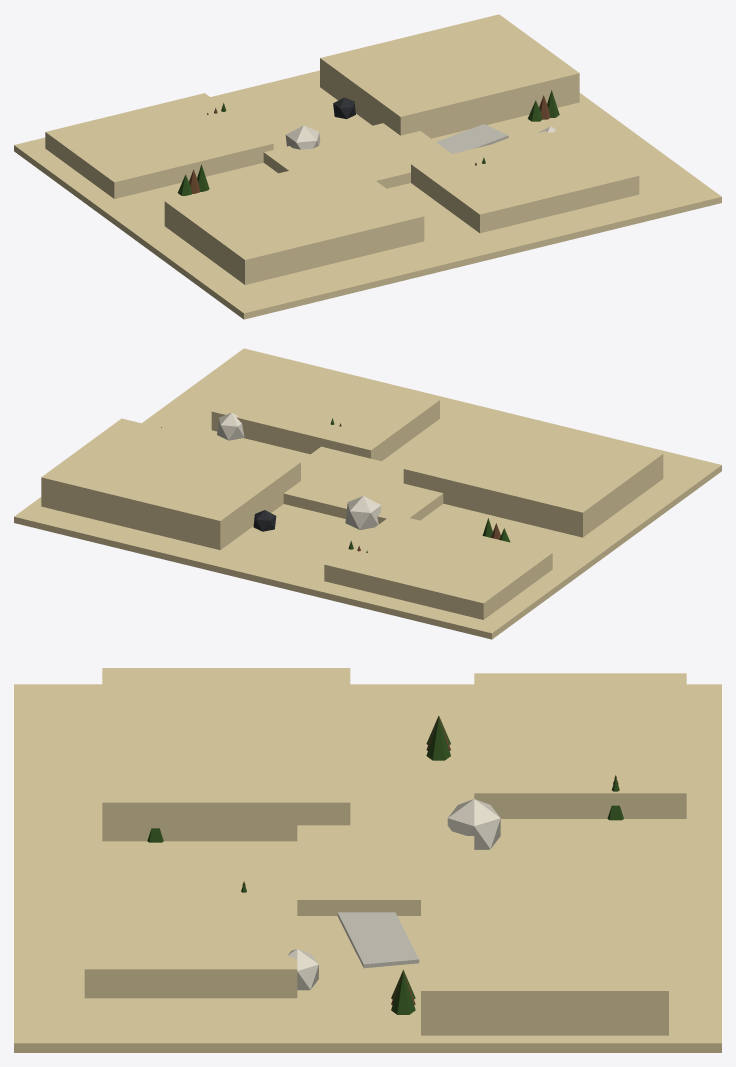
Rendered from landscape.wild-desert.glb.
3 views of the same model, one above another, from view 1: azimuth 30°, elevation 25°; view 2: azimuth 150°, elevation 25°; view 3: azimuth 270°, elevation 25° (orthographic). The views are drawn at different scales.
Visible parts, largest first — view 1: landscape.wild-desert; view 2: landscape.wild-desert; view 3: landscape.wild-desert.
Part boxes in pixels (bbox=[...]): landscape.wild-desert: bbox=[14, 14, 721, 319]; landscape.wild-desert: bbox=[14, 348, 721, 639]; landscape.wild-desert: bbox=[14, 668, 721, 1052].
Bounding box in the file's own units: 24 × 1.84 × 20.
